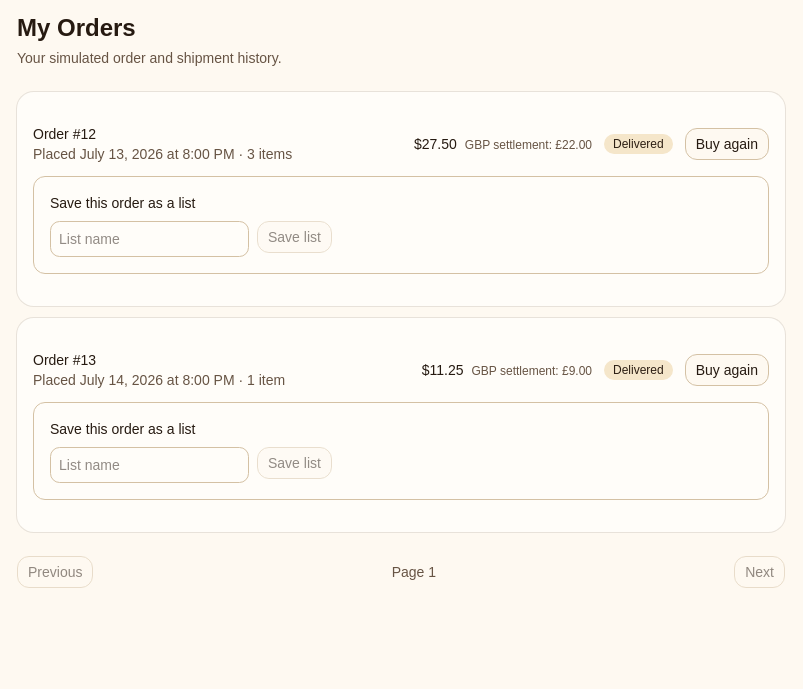
Buy Again journey from order history › explains an all-skipped reorder without presenting it as a failure
expect the link "Order #12" is shown: met, box [33, 126, 96, 142]
Click the button with aria-label "Buy again from order #12": x=727, y=144 [685, 128, 769, 160]
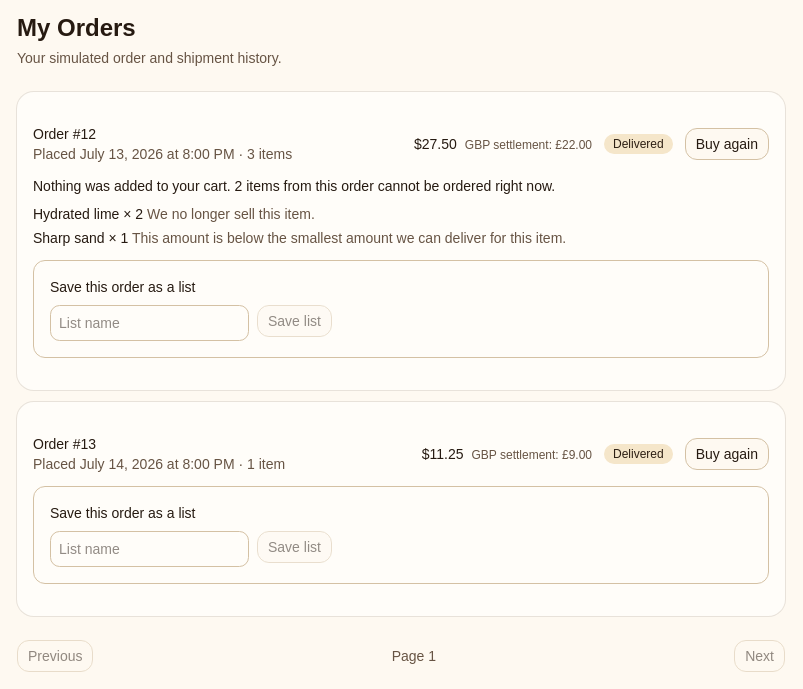
expect the message named "Buy again result for order #12" shows "Nothing was added to your cart. 2 items from this order cannot be ordered right now.": met, box [33, 178, 555, 194]
